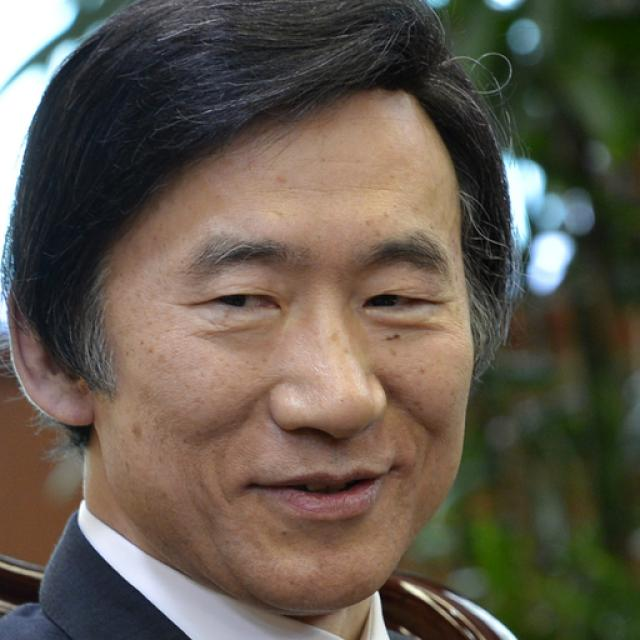Pigmentation: (116, 417, 155, 469), (137, 340, 180, 377), (356, 205, 394, 245)
